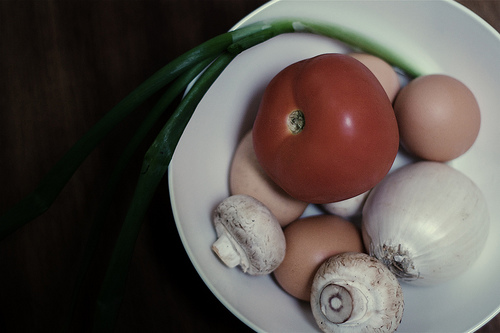onion: (361, 160, 490, 286)
